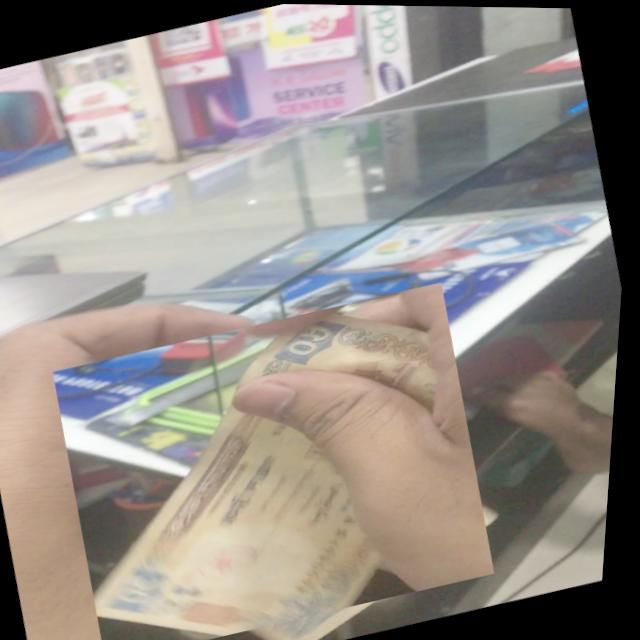Taka: (43, 276, 518, 640)
